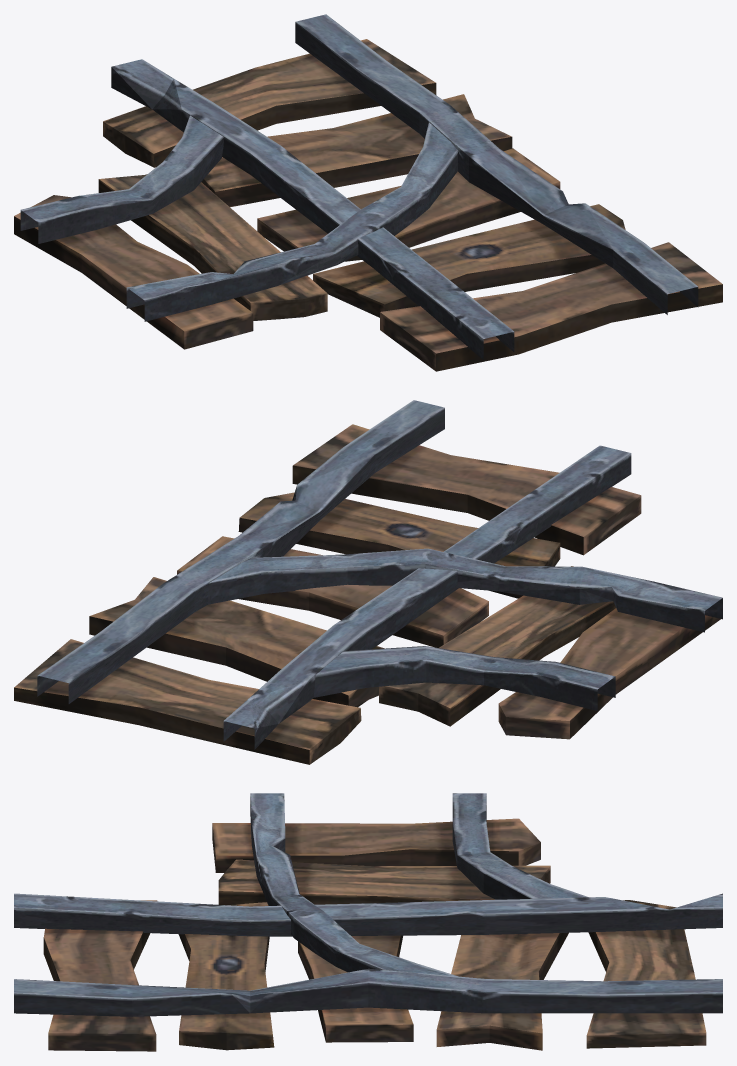
The model's file is bandit_track_t_01.fbx.
The picture shows the model from 3 angles, top to bottom: view 1: azimuth 30°, elevation 25°; view 2: azimuth 150°, elevation 25°; view 3: azimuth 270°, elevation 25°; orthographic projection. The views are drawn at different scales.
Parts seen in each view (by area): view 1: obj0.715; view 2: obj0.715; view 3: obj0.715.
Boxes of the visible parts, x1=… form: obj0.715: x1=14, y1=14, x2=722, y2=371; obj0.715: x1=14, y1=400, x2=722, y2=764; obj0.715: x1=14, y1=793, x2=722, y2=1051.
Size of the model in its own units: 2.95 by 0.2947 by 4.
